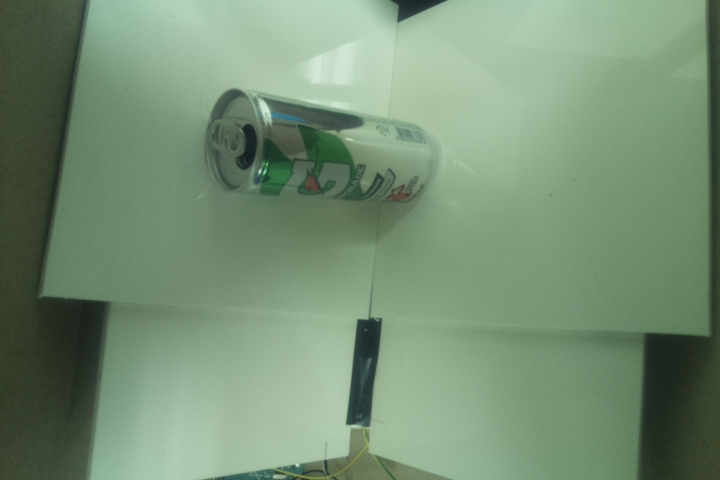can: (199, 85, 441, 206)
